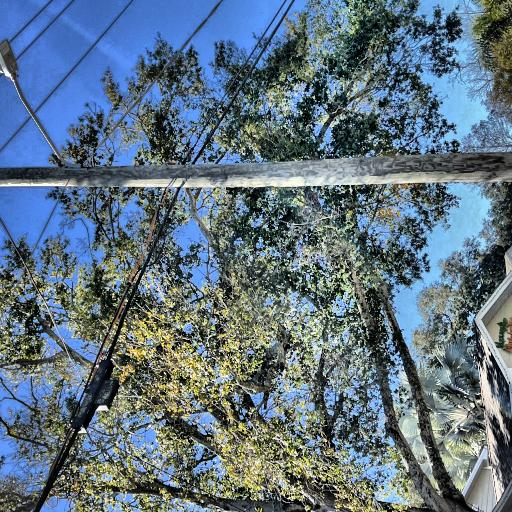pole: (186, 3, 236, 512)
street light: (202, 108, 322, 210)
